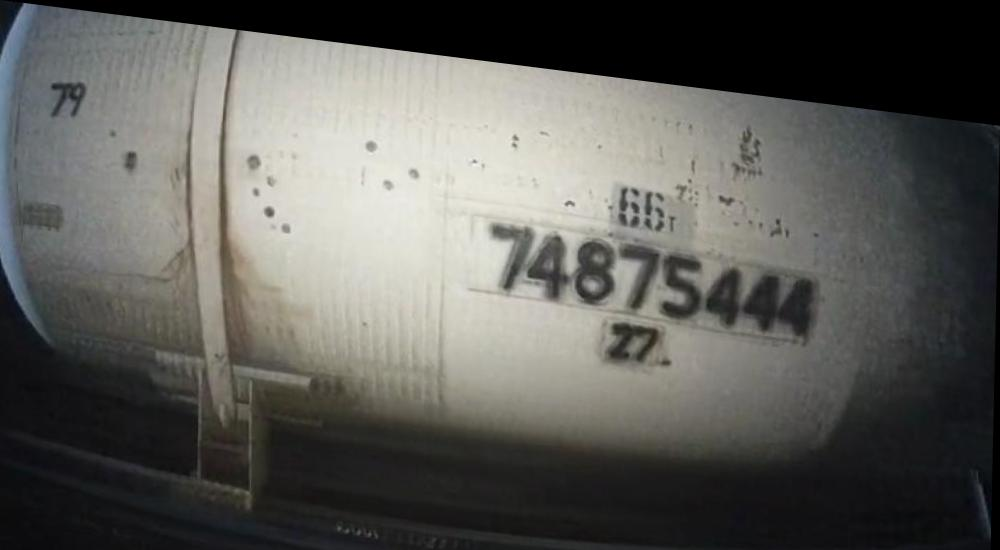Wagon-number: (485, 206, 817, 322)
